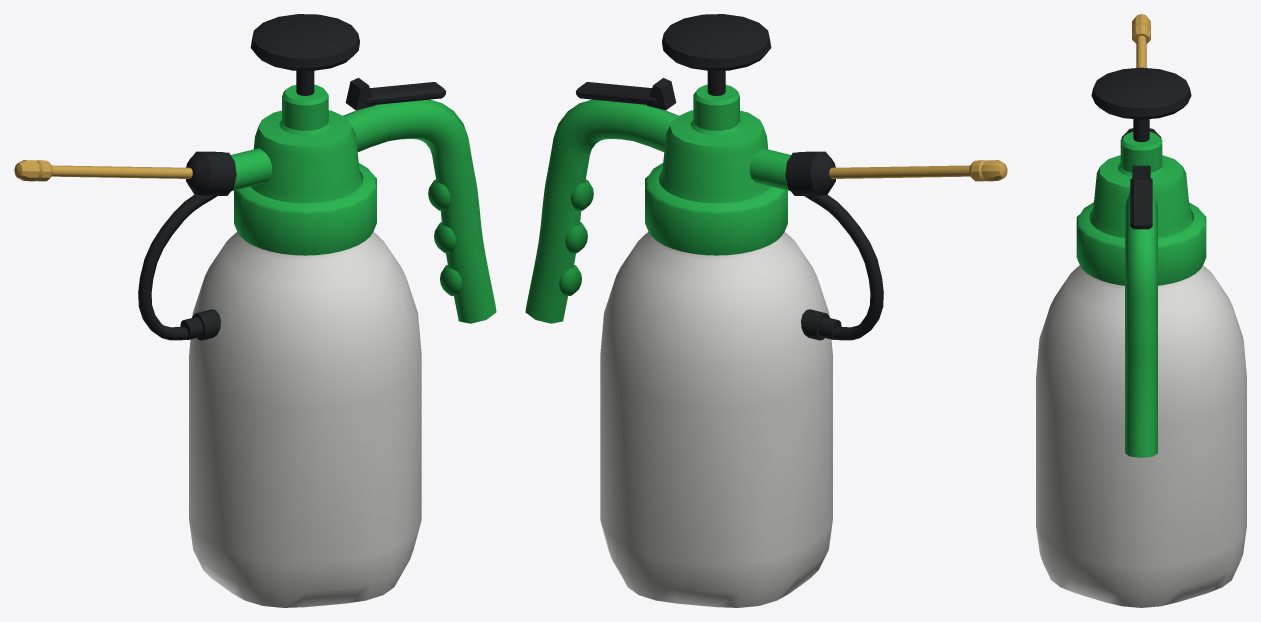
The model's file is item-19.glb.
3 views of the same model, side by side, from view 1: azimuth 30°, elevation 25°; view 2: azimuth 150°, elevation 25°; view 3: azimuth 270°, elevation 25° (orthographic). The views are drawn at different scales.
Visible parts, largest first — view 1: bottle, grip, head, collar, knob, hose, nut, wand, lever, boss, nozzle; view 2: bottle, grip, head, collar, knob, hose, nut, wand, lever, boss, nozzle; view 3: bottle, grip, head, collar, knob, lever, nozzle, rod, wand.
Boxes of the visible parts, x1,y1,x2,y2 form: bottle: (189,232,421,607); grip: (343,99,496,323); head: (251,84,362,203); collar: (234,163,376,255); knob: (250,14,359,70); hose: (138,194,217,340); nut: (186,151,236,195); wand: (51,165,192,178); lever: (365,82,446,104); boss: (231,148,272,191); nozzle: (14,160,52,181); bottle: (600,232,832,607); grip: (525,99,678,323); head: (659,84,770,203); collar: (645,163,787,255); knob: (662,14,771,70); hose: (804,194,883,340); nut: (785,151,835,195); wand: (829,165,970,178); lever: (575,82,656,104); boss: (749,148,790,191); nozzle: (969,160,1007,181); bottle: (1036,265,1246,607); grip: (1125,192,1157,457); head: (1090,132,1192,238); collar: (1076,202,1206,285); knob: (1091,67,1191,119); lever: (1130,178,1152,229); nozzle: (1132,14,1150,43); rod: (1133,119,1149,142); wand: (1136,35,1146,67).
Size of the model in its own units: 0.2958 by 0.3205 by 0.1243.
